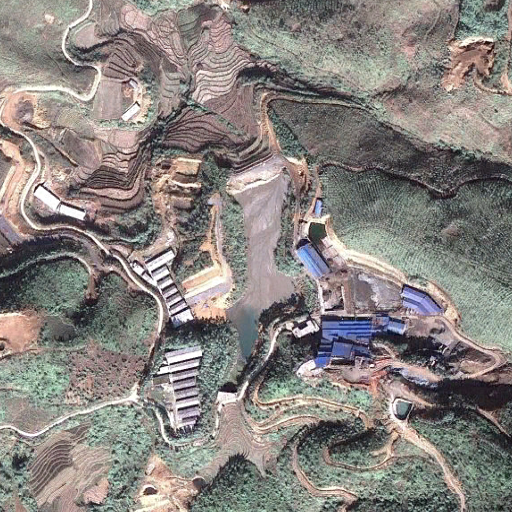tp: (214, 147, 300, 365)
